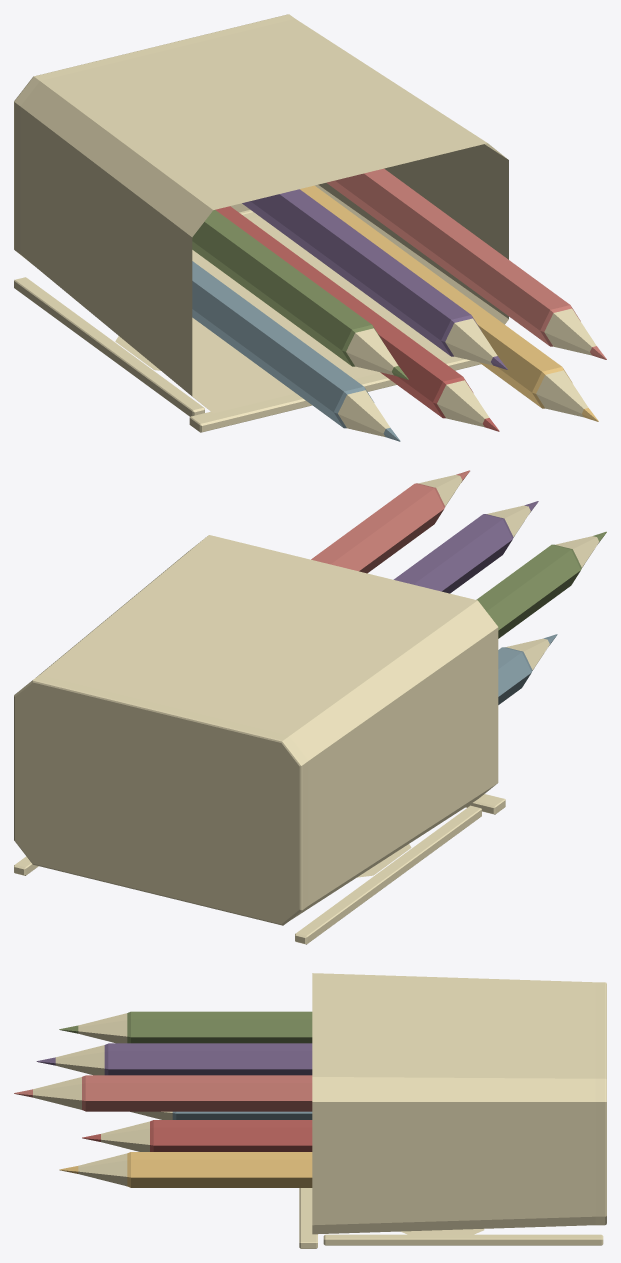
Rendered from pencils.glb.
3 renders of one model, top to bottom at view 1: azimuth 30°, elevation 25°; view 2: azimuth 150°, elevation 25°; view 3: azimuth 270°, elevation 25°, orthographic. The views are drawn at different scales.
Parts seen in each view (by area): view 1: pencils; view 2: pencils; view 3: pencils.
Boxes of the visible parts, x1,y1,x2,y2 form: pencils: (14, 14, 606, 441); pencils: (14, 470, 606, 944); pencils: (14, 973, 606, 1248).
Bounding box in the file's own units: 0.075 × 0.048 × 0.157.
